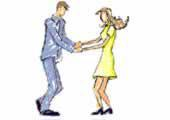person: (30, 2, 78, 117), (75, 5, 125, 115)
